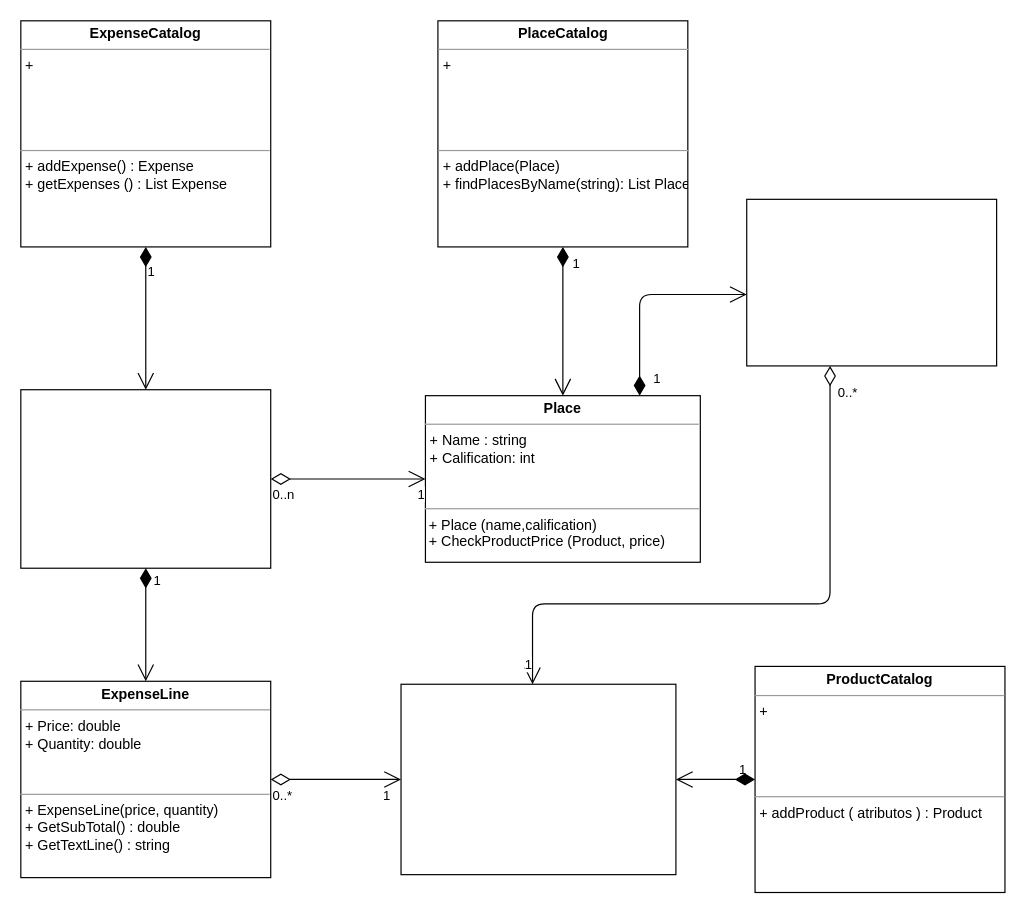
This 1026x914 diagram has some shape labels left out. The shapes that lost their labels are listed below. From the top down, each one's centre as x and y in pixels, then its label:
At pixel 871 282: "ProductSpecification + Price : double + CheckProductPrice (Producto, price)".
At pixel 145 478: "Expense + Date : DateTime + GetTotal() : double".
At pixel 538 779: "Product + Name: string + Calification: int + Category: int +".
